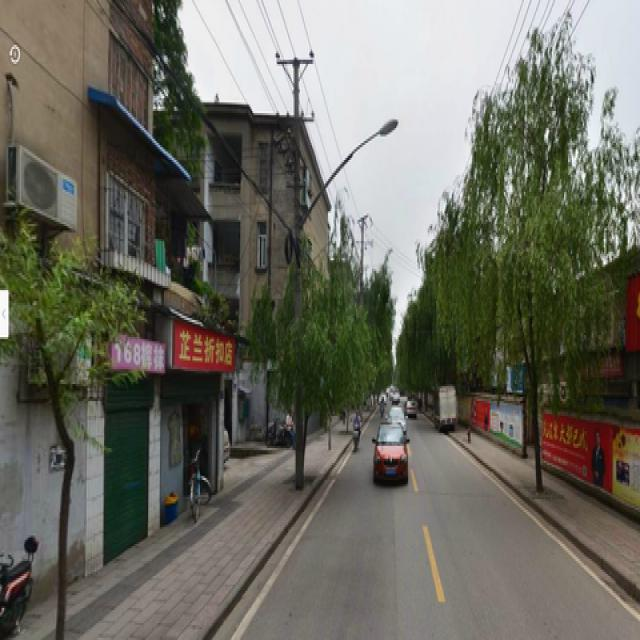plat: (424, 30, 639, 478)
